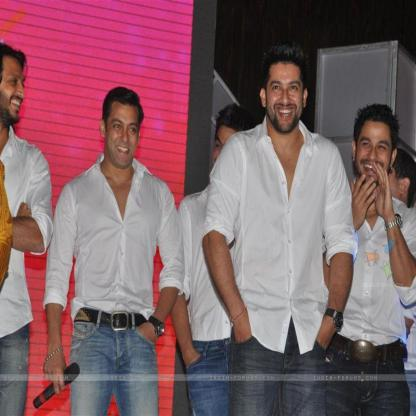face: (268, 64, 304, 134), (358, 117, 392, 186), (109, 102, 138, 168), (213, 129, 246, 178), (5, 60, 26, 124)
